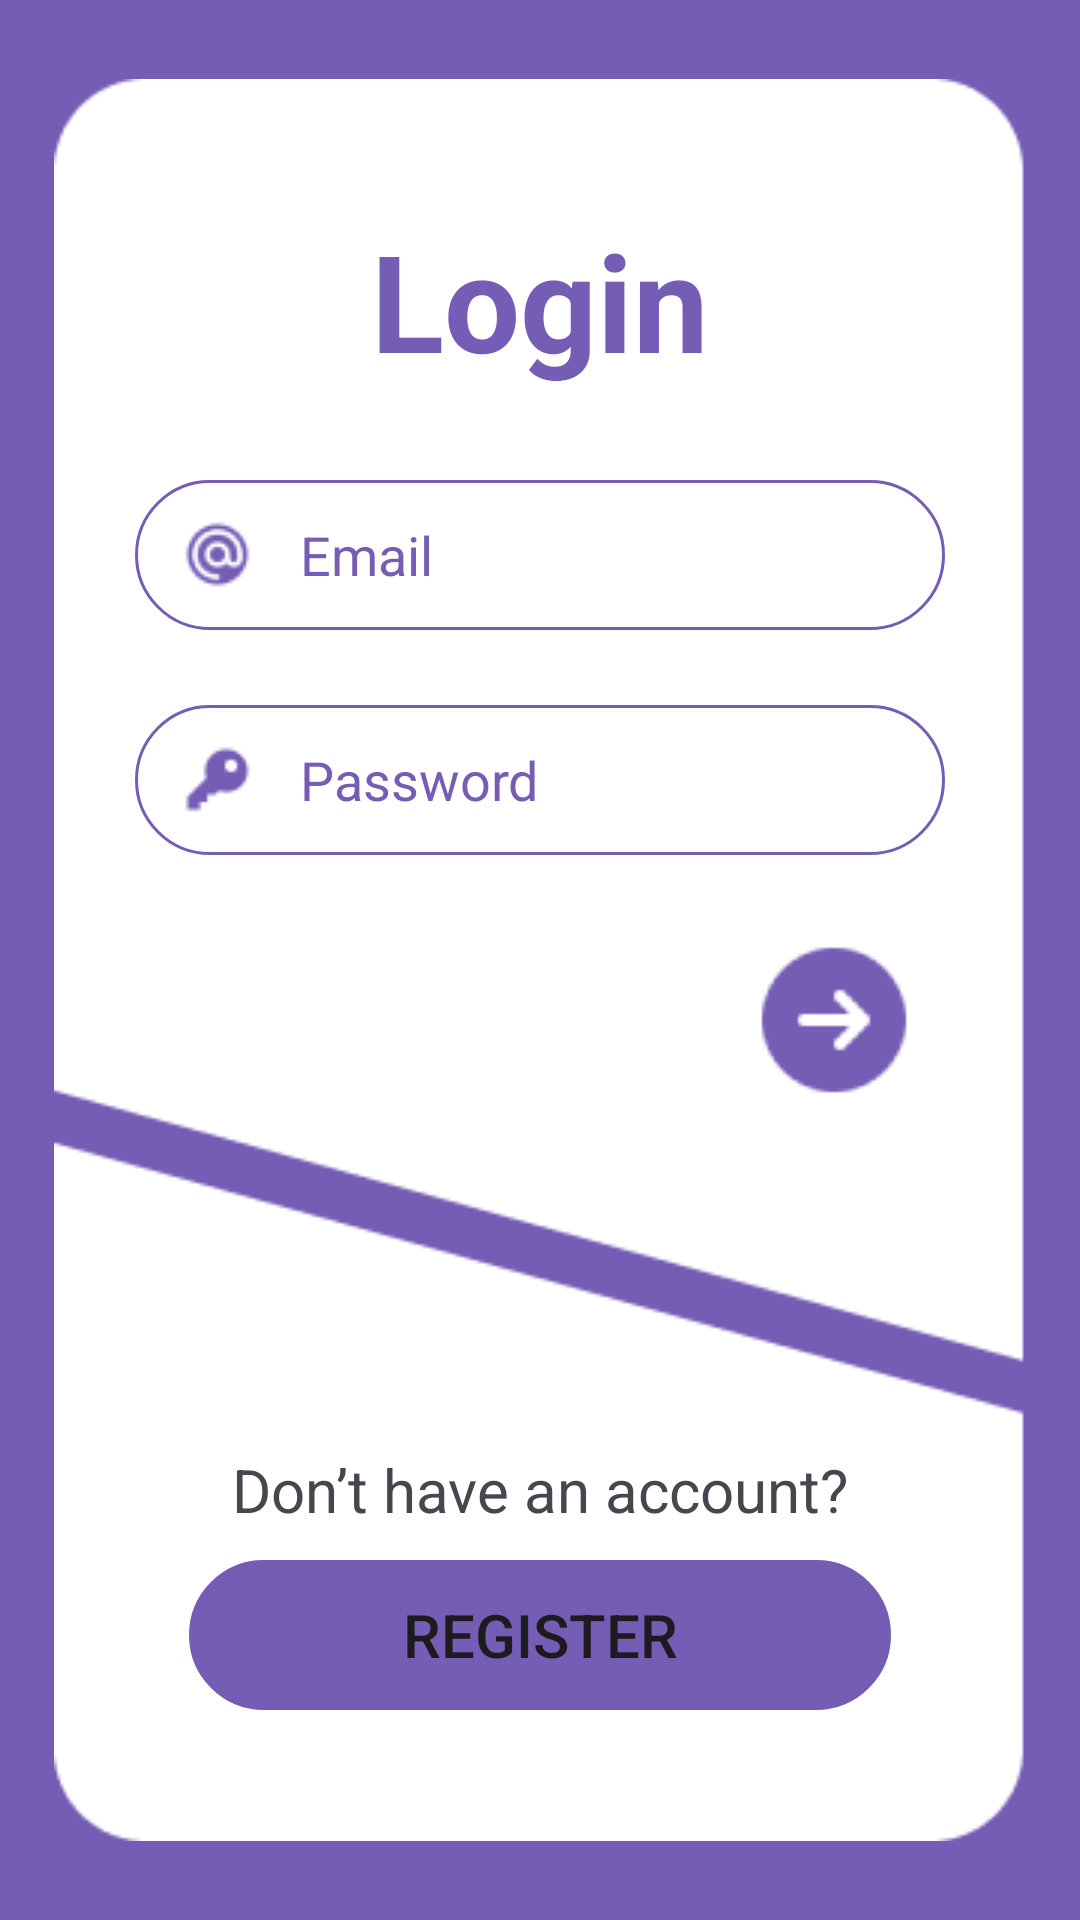

Named icons in this screenshot (1080x1920) and their centers, [x,y]:
arrow: [834,1020]
